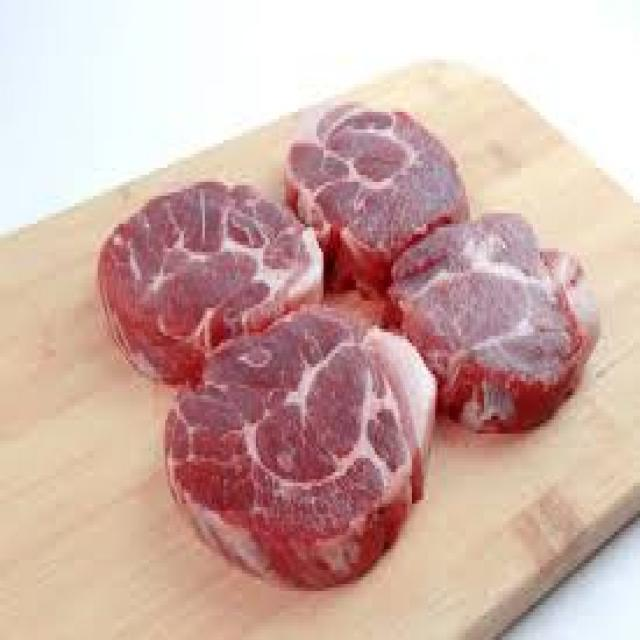pork: (168, 308, 435, 588), (391, 213, 600, 432), (98, 182, 323, 385), (286, 101, 470, 292)
